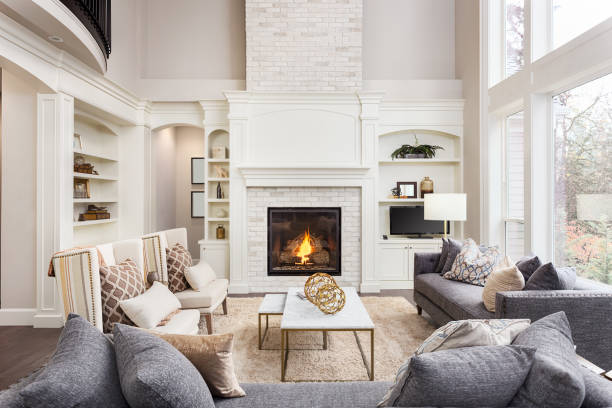TV: (388, 204, 448, 238)
chair: (49, 240, 207, 332), (137, 225, 230, 334)
floor lamp: (421, 189, 469, 240)
sofa: (0, 310, 612, 408), (409, 235, 612, 335)
table: (250, 287, 377, 384)
